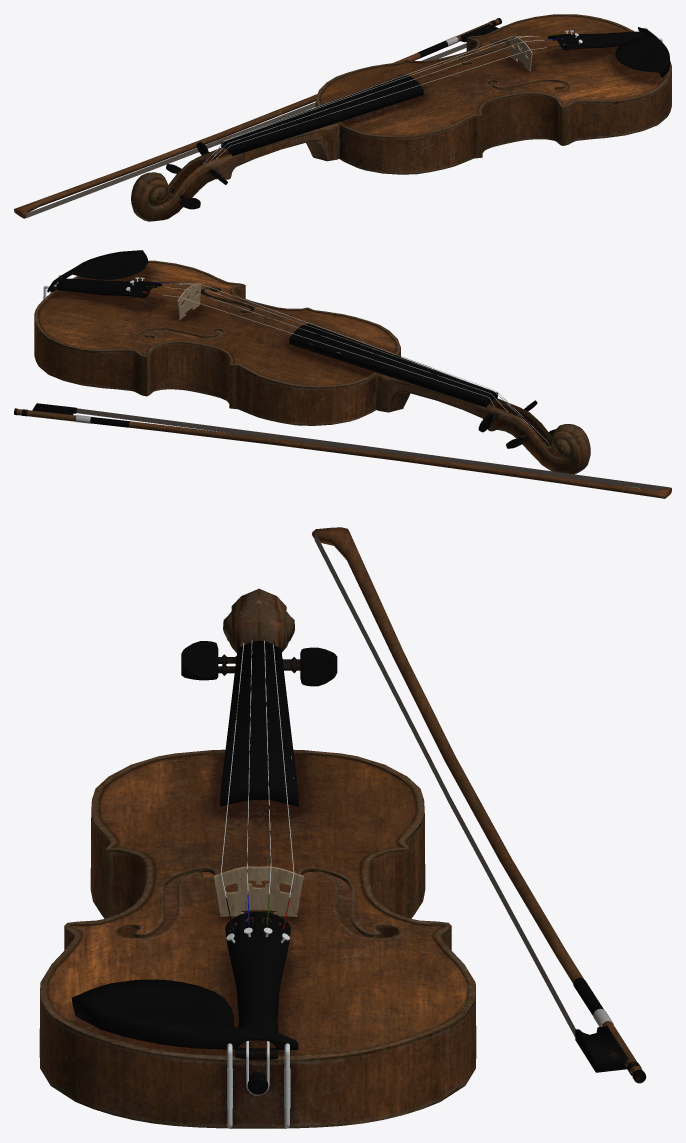
Rendered from violin (1).glb.
The picture shows the model from 3 angles, top to bottom: view 1: azimuth 30°, elevation 25°; view 2: azimuth 150°, elevation 25°; view 3: azimuth 270°, elevation 25°; orthographic projection. The views are drawn at different scales.
Parts seen in each view (by area): view 1: Box005; view 2: Box005; view 3: Box005.
Part boxes in pixels (box(x1,y1,x2,y2)): Box005: box(14, 14, 671, 221); Box005: box(14, 250, 671, 498); Box005: box(39, 527, 646, 1128).
Bounding box in the file's own units: 2 × 0.2869 × 0.849.
1 material, 1 textured.
